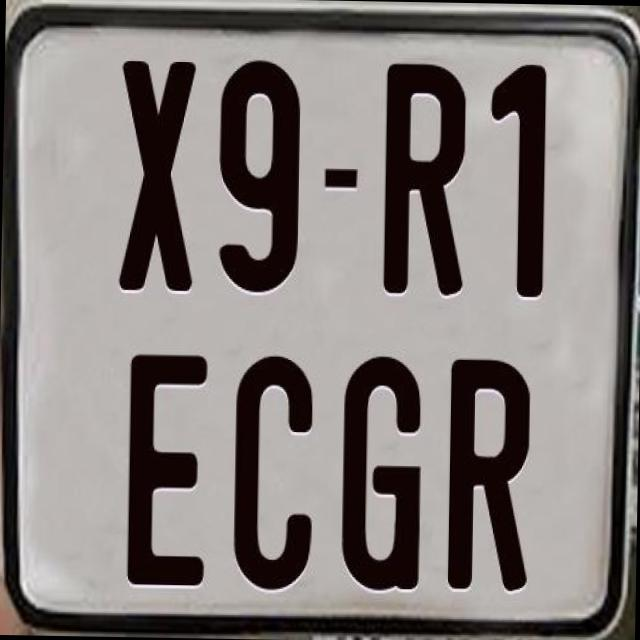1: (487, 62, 549, 296)
9: (214, 58, 302, 294)
C: (232, 355, 316, 590)
E: (124, 352, 206, 584)
G: (338, 354, 425, 590)
R: (383, 59, 470, 292), (444, 358, 528, 598)
X: (116, 57, 200, 290)
